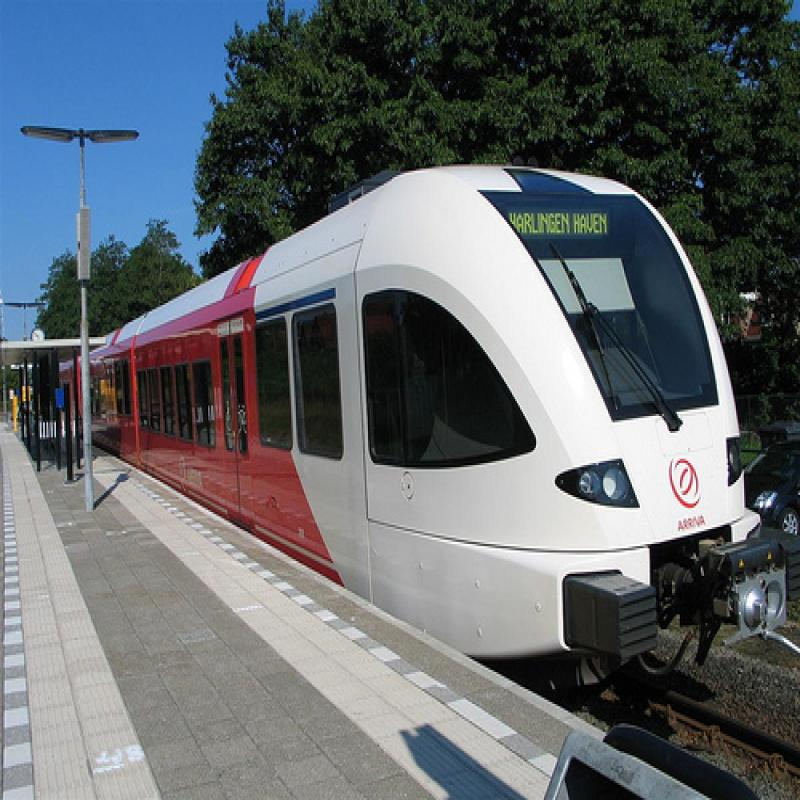train: (65, 163, 791, 686)
